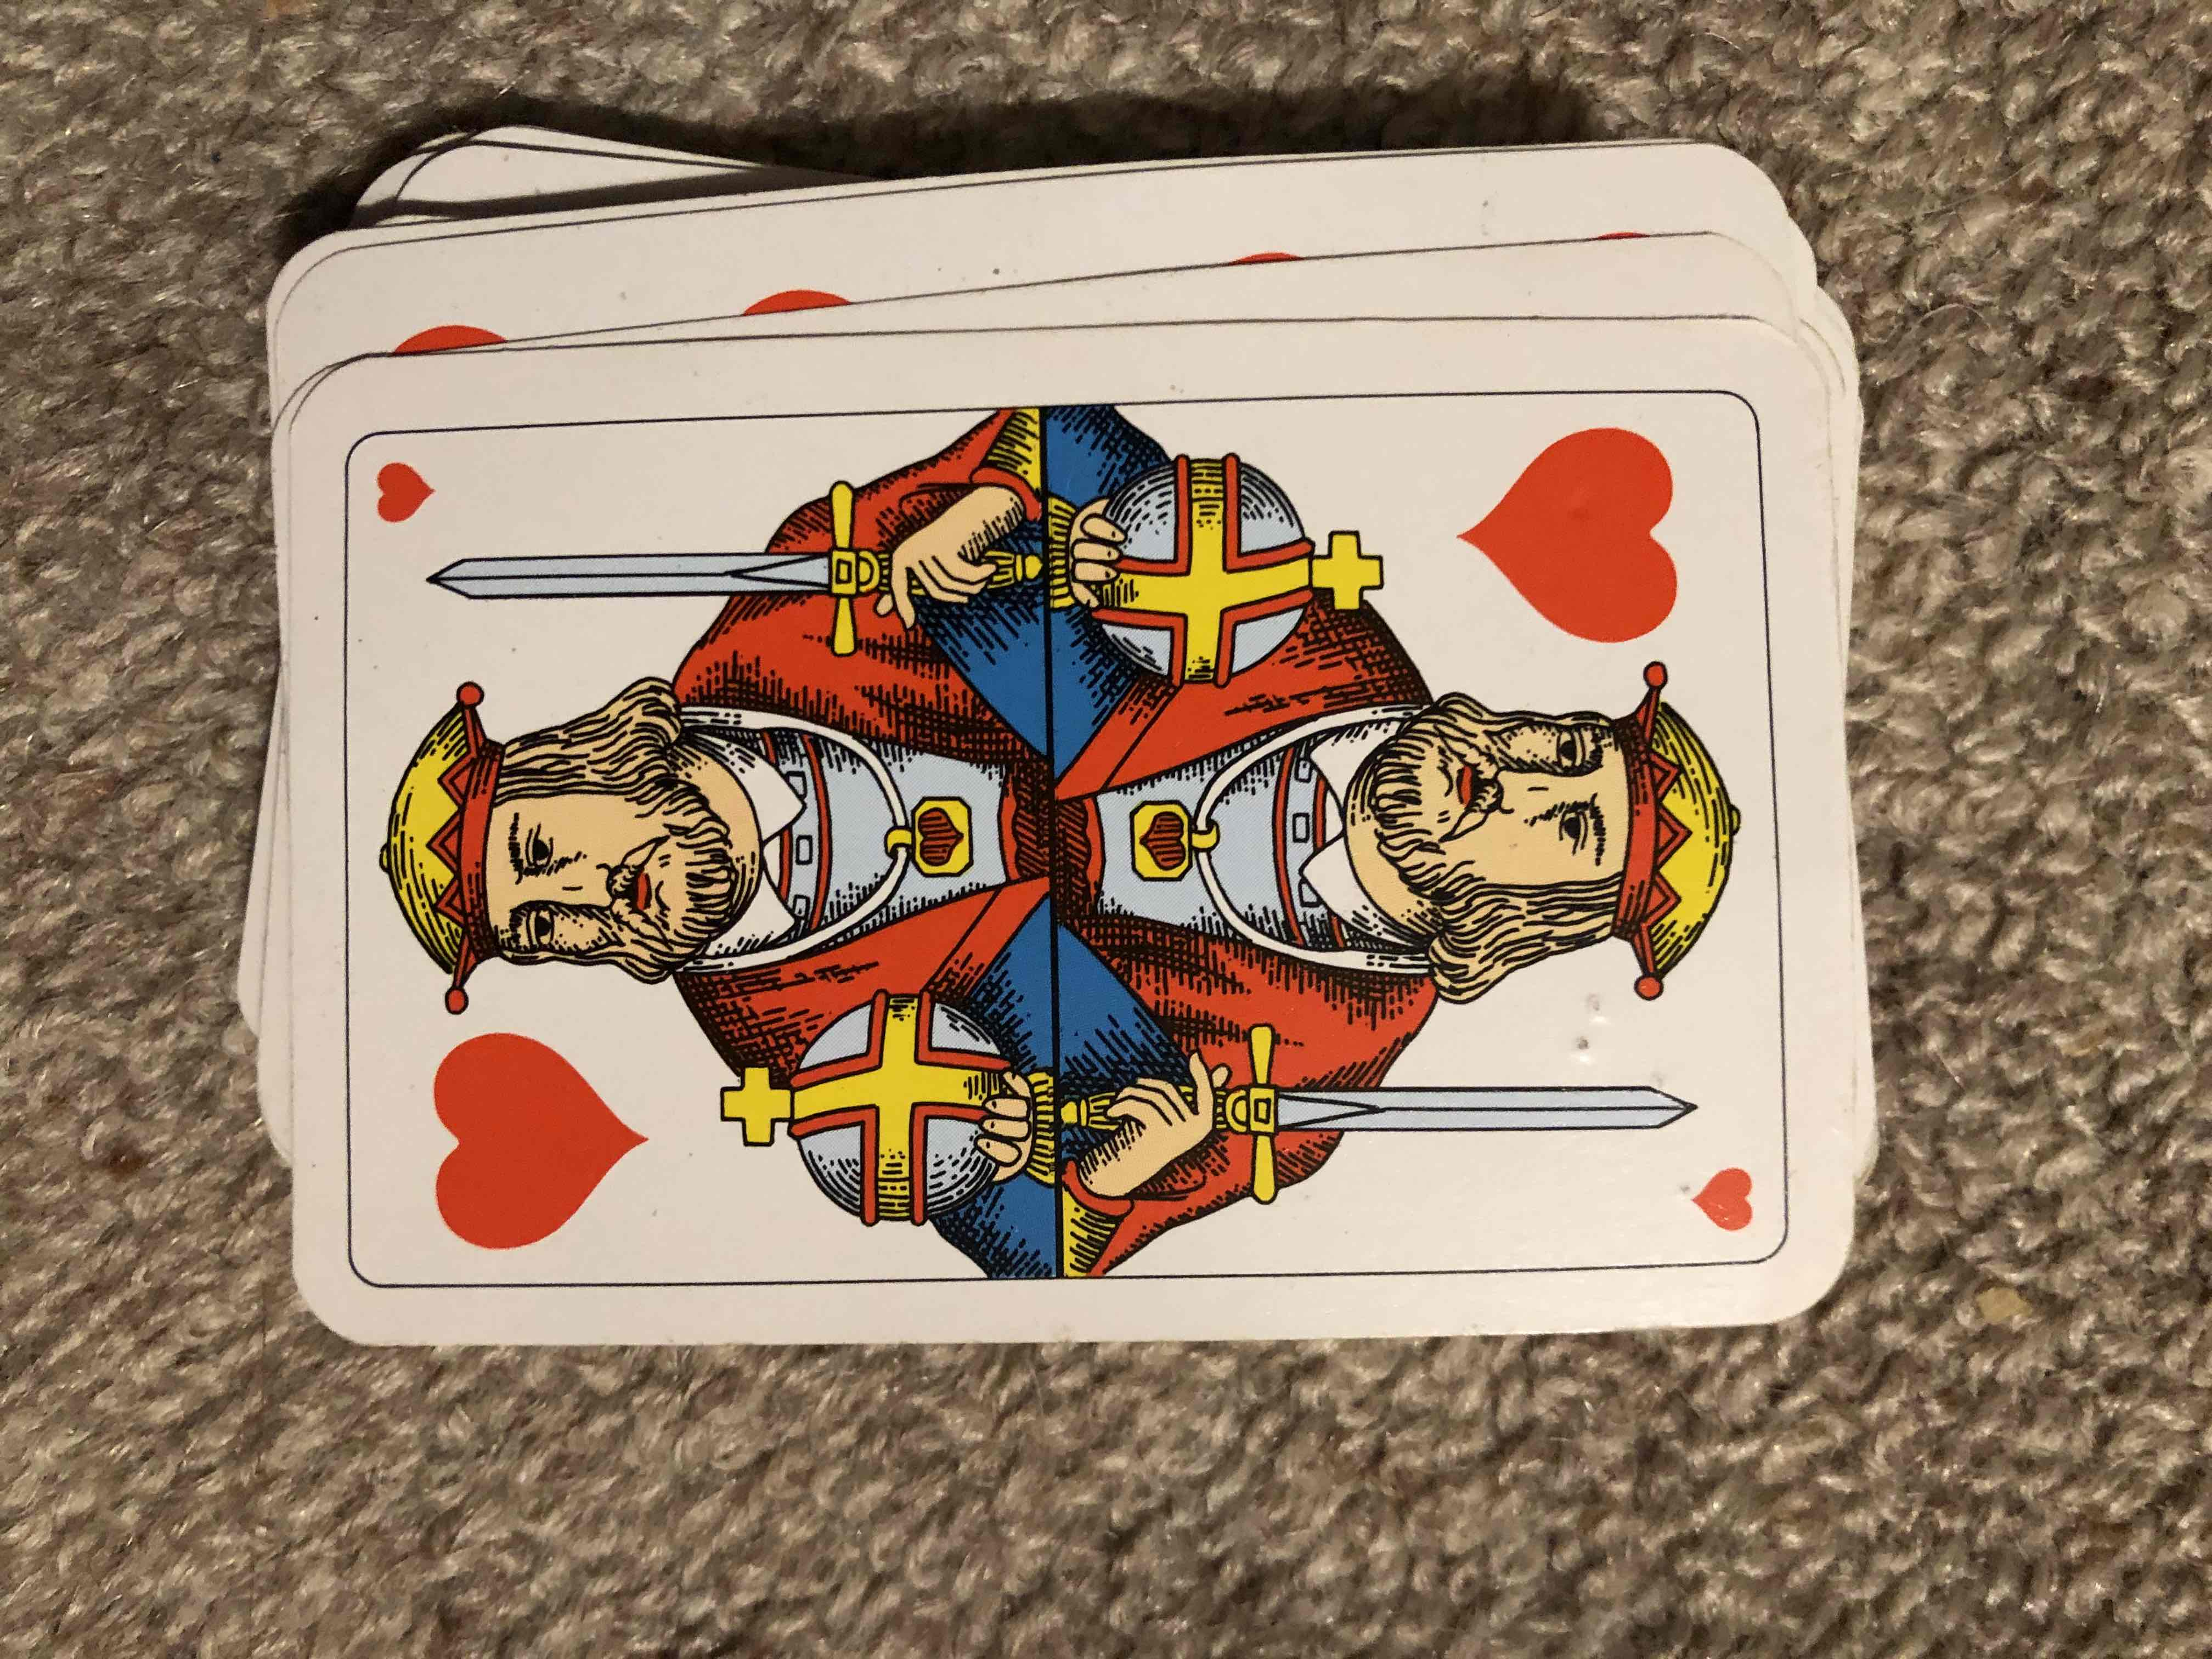heartsKing: (298, 359, 1848, 1316)
